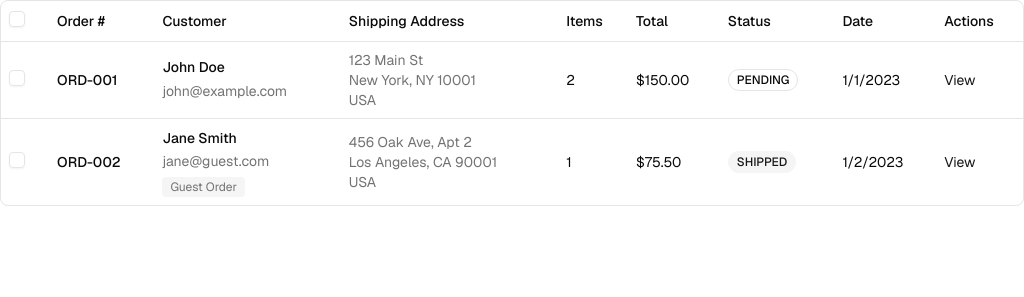
OrdersTable › handles select all functionality
The image size is (1024, 297).
Click the checkbox named "Select all": (17, 19) [9,11,25,27]
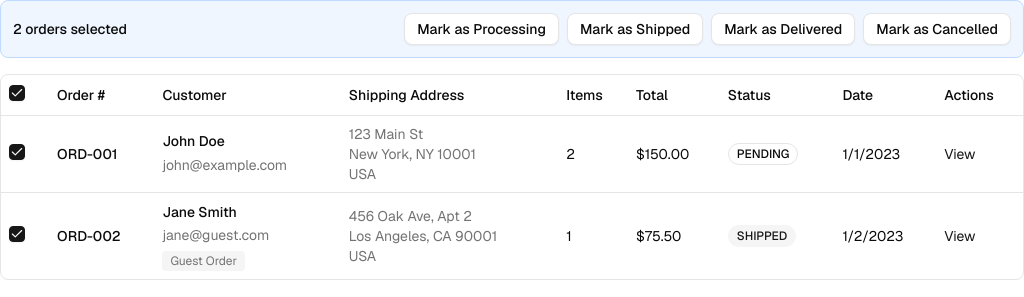
Now the checkbox named "Select row" next to "ORD-001" is checked, box [9,144,25,160]
Now the checkbox named "Select row" next to "ORD-002" is checked, box [9,226,25,242]
Now the text "2 orders selected" is shown, box [13,19,127,39]
Click the checkbox named "Select all": (17, 93) [9,85,25,101]
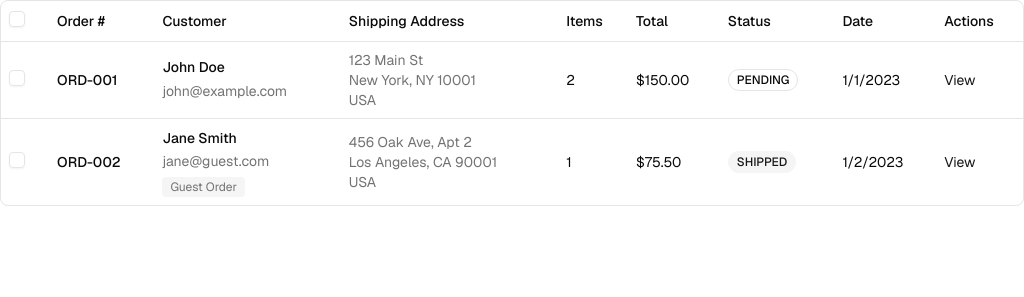
Now the checkbox named "Select row" next to "ORD-001" is not checked, box [9,70,25,86]
Now the checkbox named "Select row" next to "ORD-002" is not checked, box [9,152,25,168]
